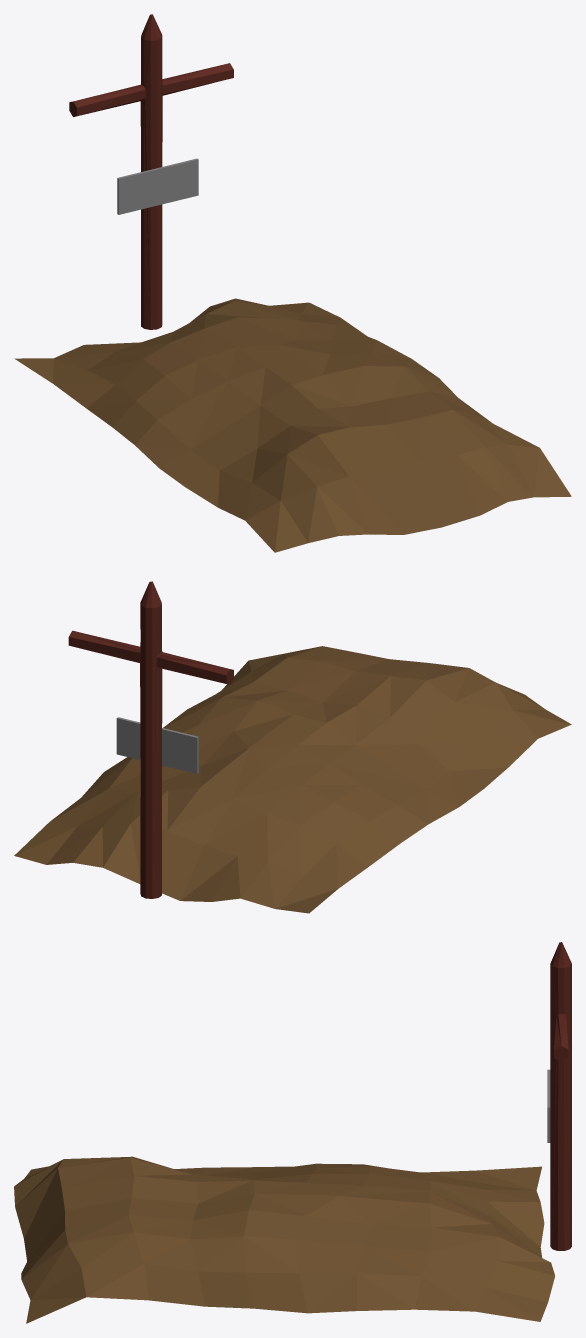
File: Model_Grob1.fbx
3 renders of one model, top to bottom at view 1: azimuth 30°, elevation 25°; view 2: azimuth 150°, elevation 25°; view 3: azimuth 270°, elevation 25°, orthographic. The views are drawn at different scales.
Visible parts, largest first — view 1: Plane; view 2: Plane; view 3: Plane.
Part boxes in pixels (x1=…): Plane: x1=14, y1=14, x2=571, y2=552; Plane: x1=14, y1=581, x2=571, y2=913; Plane: x1=14, y1=942, x2=571, y2=1323.
Bounding box in the file's own units: 220 × 137 × 134.
